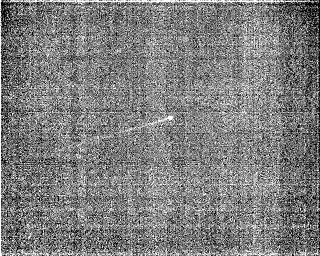AIRPLANE: (78, 114, 176, 145)
